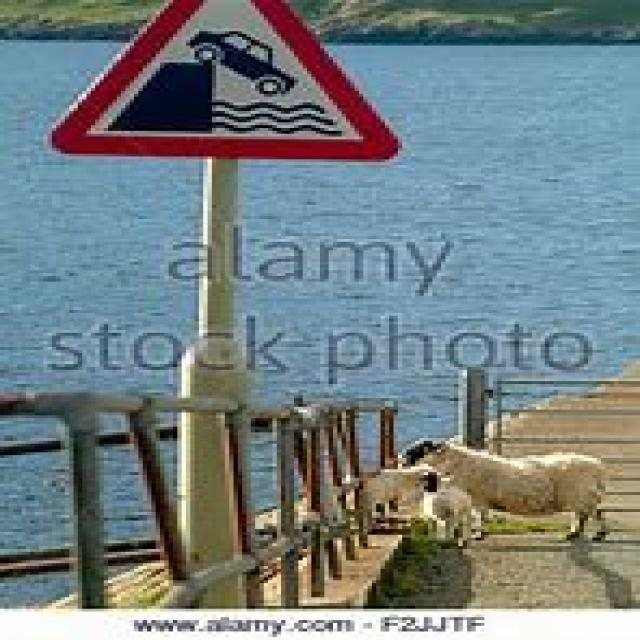QUAY_SIDE_OR_RIVER_BANK: (39, 0, 402, 159)
